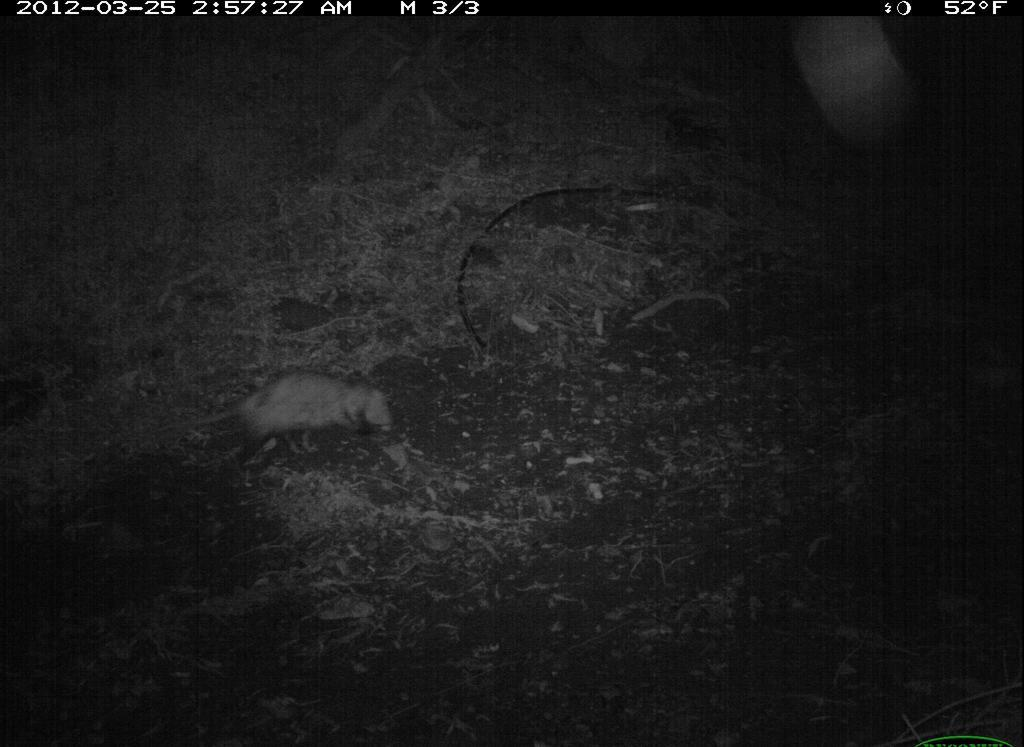opossum: (120, 363, 401, 478)
